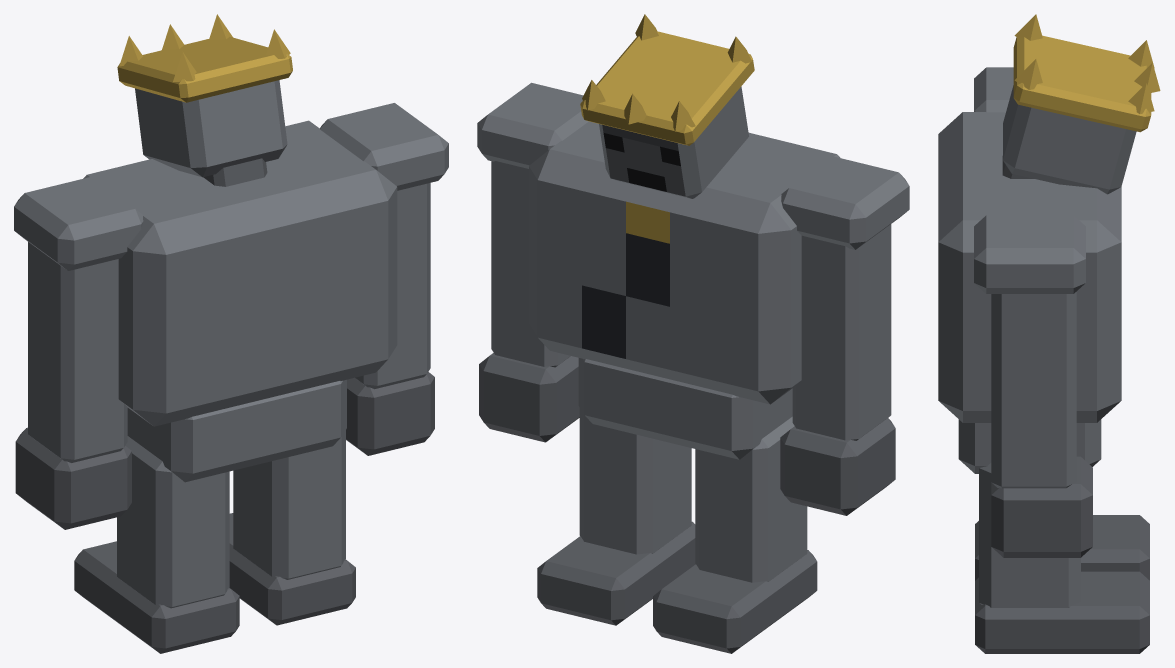
The model's file is crown_guardian.glb.
The picture shows the model from 3 angles, left to right: view 1: azimuth 30°, elevation 25°; view 2: azimuth 150°, elevation 25°; view 3: azimuth 270°, elevation 25°; orthographic projection.
Parts seen in each view (by area): view 1: CrownGuardian, Arm_L, Head, Arm_R; view 2: CrownGuardian, Arm_L, Arm_R, Head; view 3: CrownGuardian, Arm_R, Head, Arm_L.
Boxes of the visible parts, <box> form: CrownGuardian: <box>74,120,397,653</box>; Arm_L: <box>14,176,143,529</box>; Head: <box>117,14,292,186</box>; Arm_R: <box>320,103,448,455</box>; CrownGuardian: <box>529,121,840,653</box>; Arm_L: <box>780,156,909,515</box>; Arm_R: <box>477,82,588,442</box>; Head: <box>580,14,754,198</box>; CrownGuardian: <box>938,112,1149,653</box>; Arm_R: <box>974,215,1092,557</box>; Head: <box>1002,14,1160,194</box>; Arm_L: <box>974,67,1013,112</box>.
Bounding box in the file's own units: 2.22 × 3.1 × 1.09.
